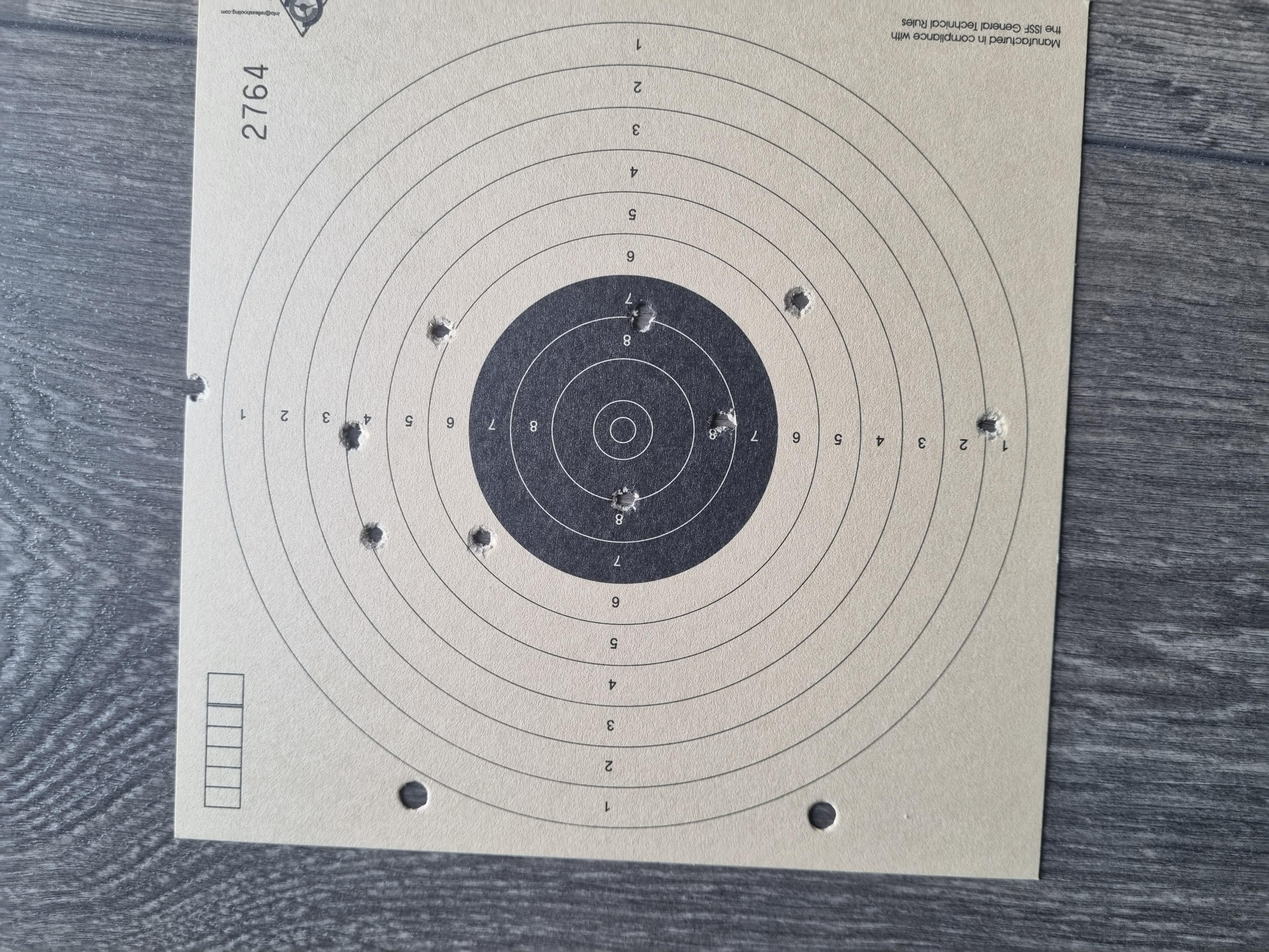hole: (844, 587, 888, 608), (809, 320, 849, 343), (682, 732, 721, 753), (667, 253, 708, 272), (531, 350, 569, 370), (730, 139, 771, 157), (587, 458, 619, 480), (692, 531, 724, 553), (535, 270, 572, 288), (847, 473, 867, 493), (825, 472, 846, 490)
